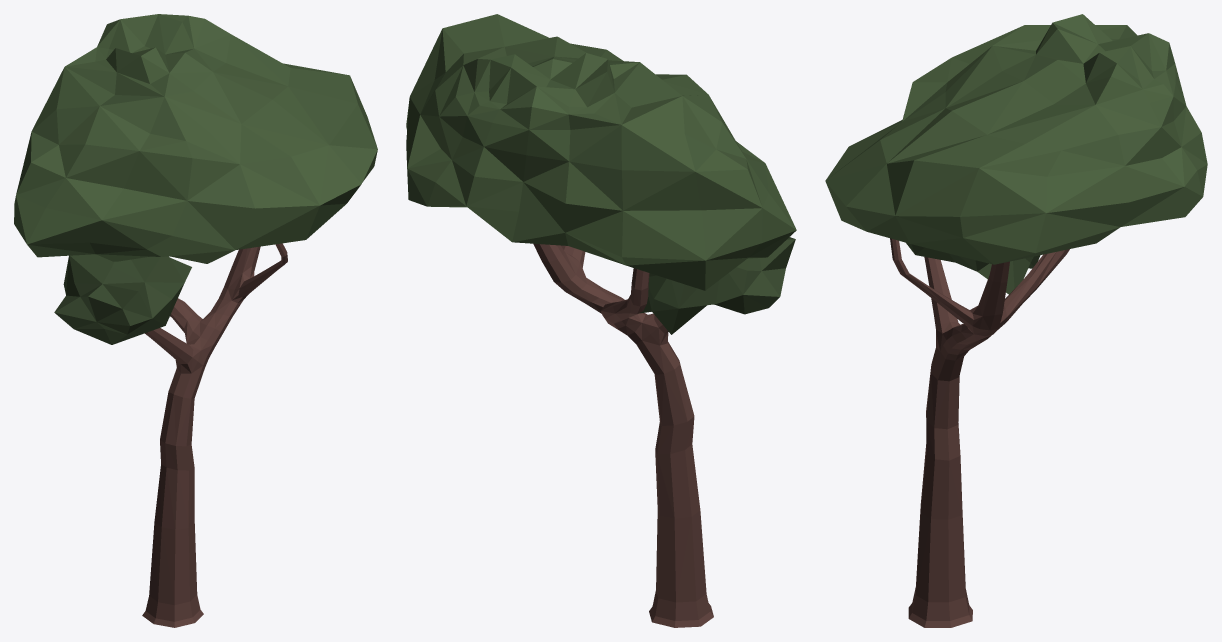
File: tree_apple.harvested.glb
The picture shows the model from 3 angles, left to right: view 1: azimuth 30°, elevation 25°; view 2: azimuth 150°, elevation 25°; view 3: azimuth 270°, elevation 25°; orthographic projection. The views are drawn at different scales.
Size of the model in its own units: 0.6518 by 1 by 0.5714.
